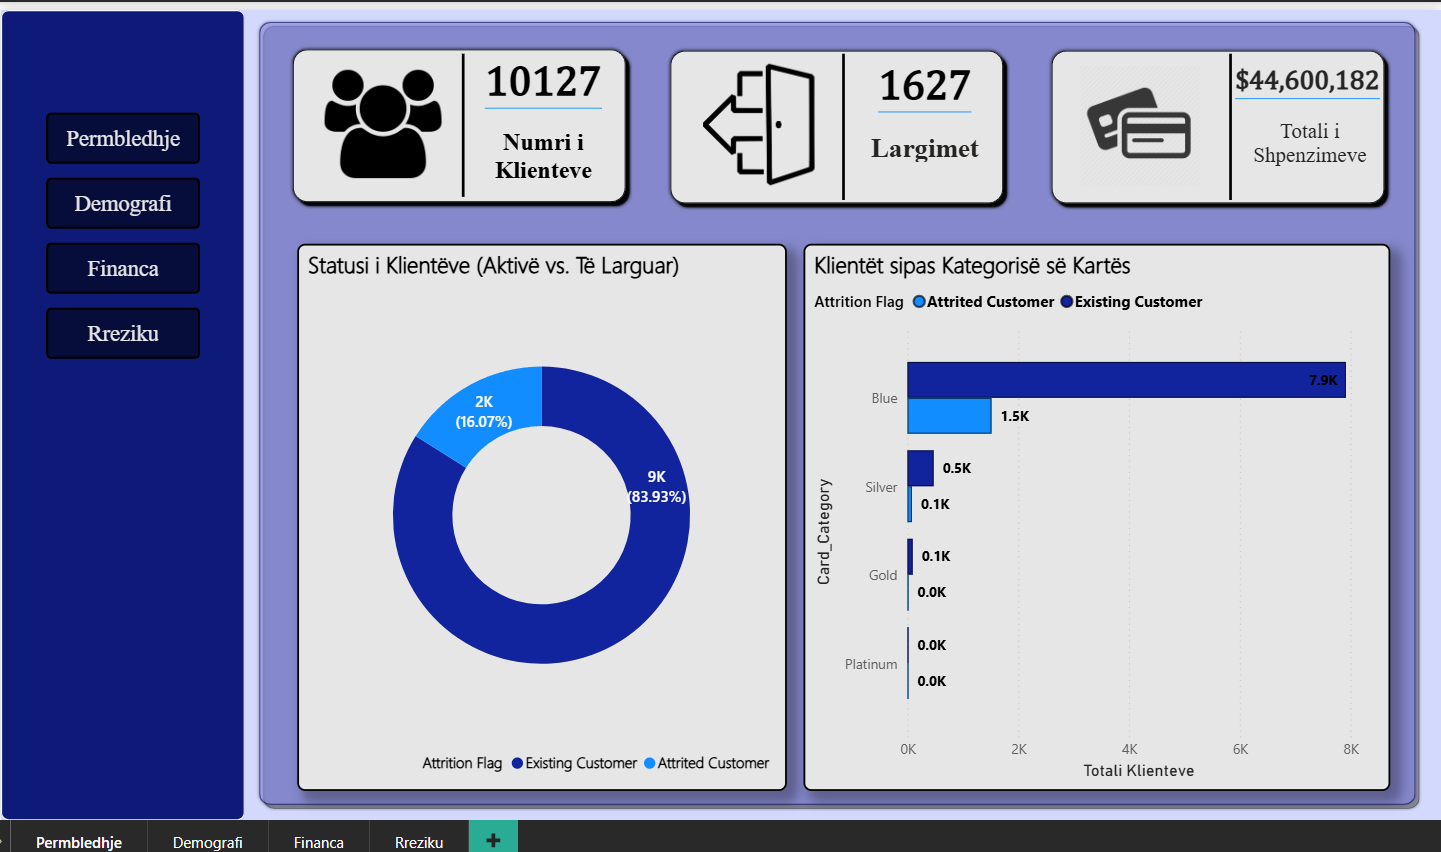

The page's visual inventory and layout, read from the dashboard file:
{"tool":"powerbi","page":{"name":"Permbledhje","canvas":[1280,720],"ordinal":0},"visuals":[{"type":"group","id":"g1","title":"Group 1","box":[0,0,215.7,720],"z":0},{"type":"shape","box":[0,0,216.7,720.2],"z":0,"group":"g1"},{"type":"donutChart","title":"Statusi i Klientëve (Aktivë vs. Të Larguar)","fields":{"Category":["BankChurners.Attrition_Flag"],"Y":["BankChurners.Totali Klienteve"]},"box":[263.8,207.5,435,486.2],"z":0,"group":"g8"},{"type":"shape","box":[224,6,1038,706],"z":1000},{"type":"shape","box":[253.8,28.5,308,148],"z":1000,"group":"g2"},{"type":"shape","box":[588.6,30,308,148],"z":1000,"group":"g3"},{"type":"shape","box":[927.5,30,308,148],"z":1000,"group":"g4"},{"type":"actionButton","box":[40.3,91.4,137.1,45.7],"z":1000,"group":"g1"},{"type":"clusteredBarChart","title":"Klientët sipas Kategorisë së Kartës","fields":{"Category":["BankChurners.Card_Category"],"Y":["BankChurners.Totali Klienteve"],"Series":["BankChurners.Attrition_Flag"]},"box":[713.8,207.5,521.2,486.2],"z":1000,"group":"g8"},{"type":"group","id":"g2","title":"Group 2","box":[253.8,28.5,308,148],"z":2000},{"type":"actionButton","box":[40.3,148.6,137.1,45.7],"z":2000,"group":"g1"},{"type":"group","id":"g3","title":"Group 2","box":[588.6,30,308,148],"z":3000},{"type":"image","box":[599.5,48.5,146.9,108.3],"z":3000,"group":"g7"},{"type":"image","box":[938.4,48.5,146.9,108.3],"z":3000,"group":"g5"},{"type":"image","box":[270.2,49.2,139,105],"z":3000,"group":"g6"},{"type":"actionButton","box":[40.3,207.1,137.1,45.7],"z":3000,"group":"g1"},{"type":"group","id":"g4","title":"Group 2","box":[927.5,30,307.5,147.5],"z":4000},{"type":"shape","box":[1045.9,38.9,92.5,130],"z":4000,"group":"g5"},{"type":"shape","box":[363.6,39,95,127.5],"z":4000,"group":"g6"},{"type":"shape","box":[698.9,39.2,100,130],"z":4000,"group":"g7"},{"type":"actionButton","box":[40.3,264.3,137.1,45.7],"z":4000,"group":"g1"},{"type":"group","id":"g5","title":"Group 3","box":[938.4,38.9,200,130],"z":4002,"group":"g4"},{"type":"group","id":"g6","title":"Group 3","box":[270.2,39,188.4,127.5],"z":4002,"group":"g2"},{"type":"group","id":"g7","title":"Group 3","box":[599.5,39.2,199.4,130],"z":4002,"group":"g3"},{"type":"textbox","box":[413.8,38.8,137.5,127.5],"z":5000},{"type":"textbox","box":[760,42.5,122.5,115],"z":6000},{"type":"textbox","box":[1092.5,45,142.5,121.2],"z":7000},{"type":"group","id":"g8","title":"Group 4","box":[263.8,207.5,971.2,486.2],"z":8000}]}

Visuals, with their boxes on the page's 1280x720 design canvas (x1, y1, x2, y2). These are canvas units, not pixel positions in the 1441x852 screenshot, which may show the page scaled, cropped or inside an application window:
"Group 1" group: <box>0,0,216,720</box>
shape: <box>0,0,217,720</box>
"Statusi i Klientëve (Aktivë vs. Të Larguar)" donutChart: <box>264,208,699,694</box>
shape: <box>224,6,1262,712</box>
shape: <box>254,28,562,176</box>
shape: <box>589,30,897,178</box>
shape: <box>928,30,1236,178</box>
actionButton: <box>40,91,177,137</box>
"Klientët sipas Kategorisë së Kartës" clusteredBarChart: <box>714,208,1235,694</box>
"Group 2" group: <box>254,28,562,176</box>
actionButton: <box>40,149,177,194</box>
"Group 2" group: <box>589,30,897,178</box>
image: <box>600,48,746,157</box>
image: <box>938,48,1085,157</box>
image: <box>270,49,409,154</box>
actionButton: <box>40,207,177,253</box>
"Group 2" group: <box>928,30,1235,178</box>
shape: <box>1046,39,1138,169</box>
shape: <box>364,39,459,166</box>
shape: <box>699,39,799,169</box>
actionButton: <box>40,264,177,310</box>
"Group 3" group: <box>938,39,1138,169</box>
"Group 3" group: <box>270,39,459,166</box>
"Group 3" group: <box>600,39,799,169</box>
textbox: <box>414,39,551,166</box>
textbox: <box>760,42,882,158</box>
textbox: <box>1092,45,1235,166</box>
"Group 4" group: <box>264,208,1235,694</box>
